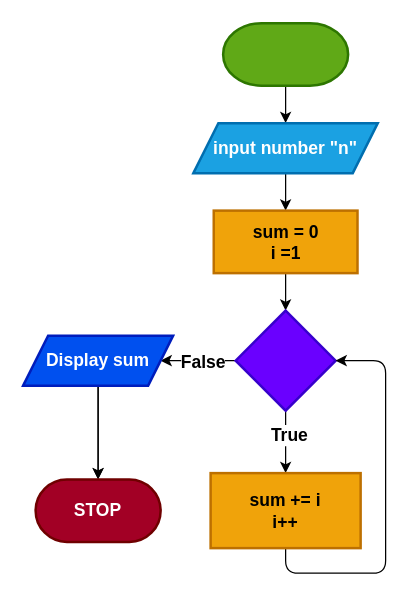
Image size: 418x605. Some labels were removed from this diagram. Here are the shapes that lost their labels. From the top down, the centre of each, then its label:
point (285, 53): START
point (285, 360): if i <= n
